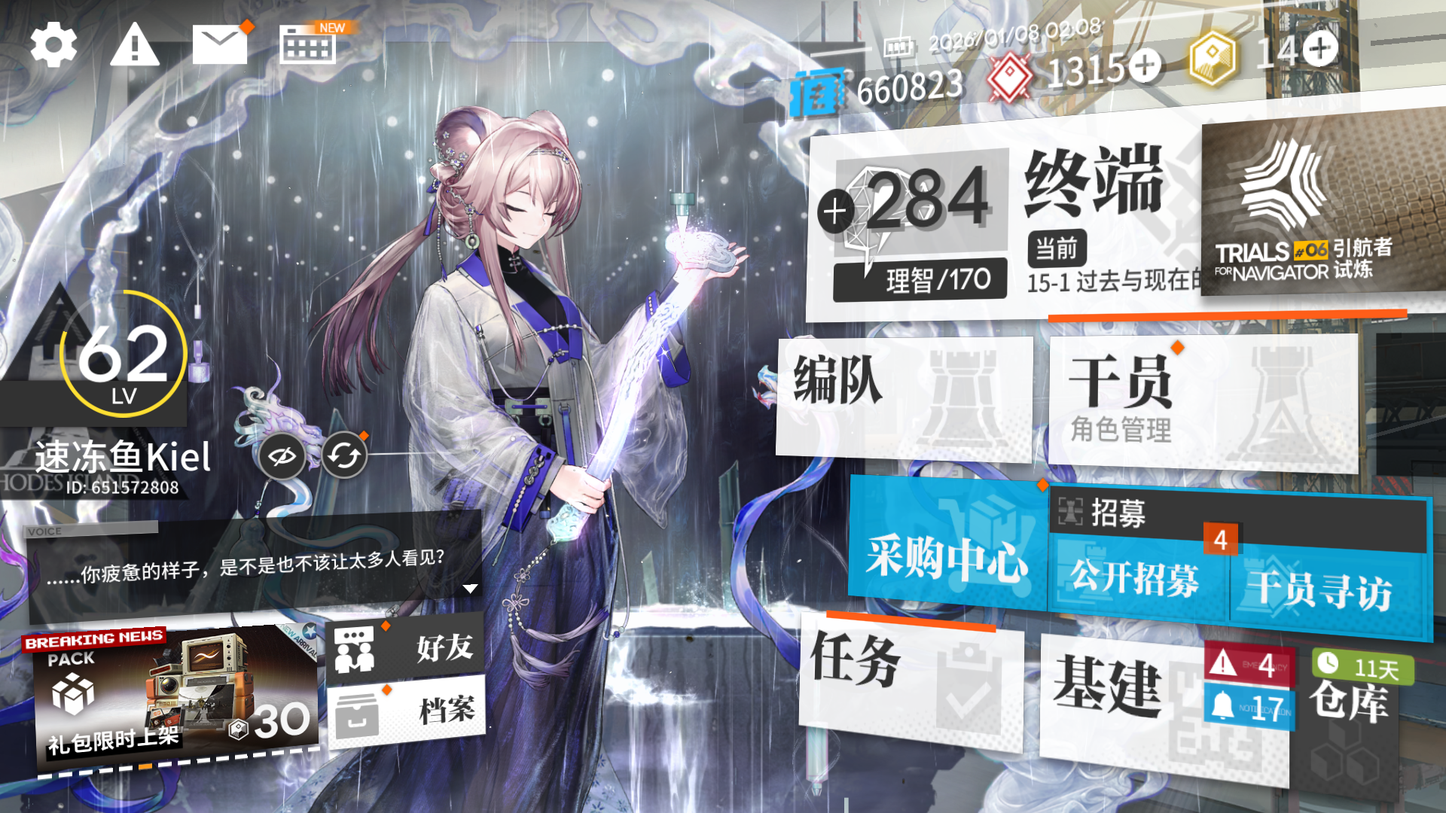home_button: (1014, 133, 1164, 230)
infrastructure_button: (1043, 641, 1275, 772)
